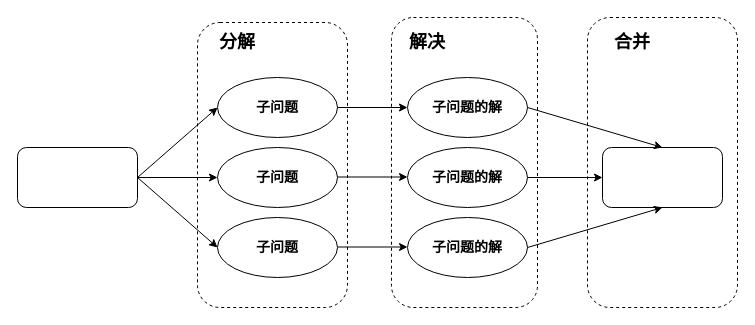
This 755x325 diagram has some shape labels left out. The shapes that lost their labels are listed below. From the top down, each one's centre as x and y in pixels, then its label:
the point at 77,177: 原问题
the point at 662,177: 原始问题的解
